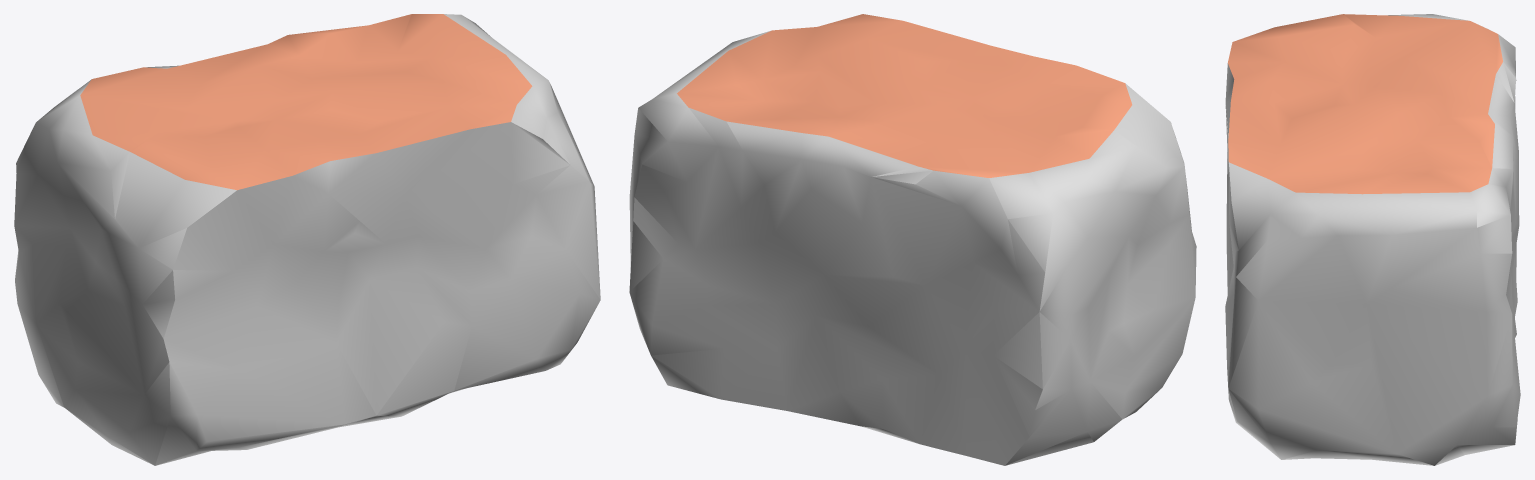
The model's file is Brick1_fbx.fbx.
The picture shows the model from 3 angles, left to right: view 1: azimuth 30°, elevation 25°; view 2: azimuth 150°, elevation 25°; view 3: azimuth 270°, elevation 25°; orthographic projection. The views are drawn at different scales.
Visible parts, largest first — view 1: Brick1; view 2: Brick1; view 3: Brick1.
Boxes of the visible parts, left/top/right/bottom form: Brick1: left=14, top=14, right=600, bottom=465; Brick1: left=629, top=14, right=1196, bottom=465; Brick1: left=1225, top=14, right=1520, bottom=465.
Bounding box in the file's own units: 0.2869 × 0.1734 × 0.1715.
